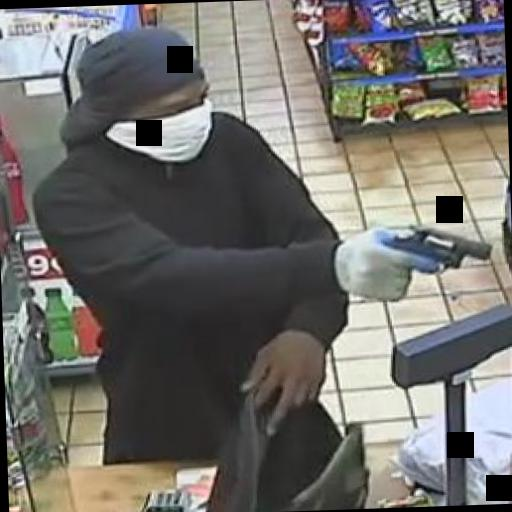Handgun: (368, 218, 494, 301)
